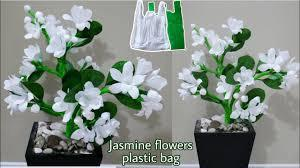jasmine: (176, 55, 277, 128), (54, 87, 121, 147), (104, 59, 166, 113), (7, 37, 44, 121), (17, 4, 86, 48), (186, 14, 251, 50), (260, 38, 299, 95)
